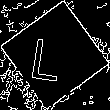L_N: (35, 27, 75, 83)
